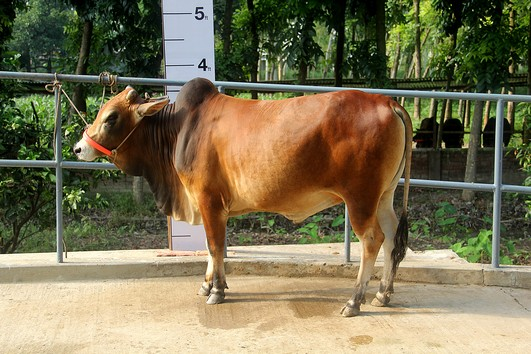cow: (66, 75, 419, 321)
